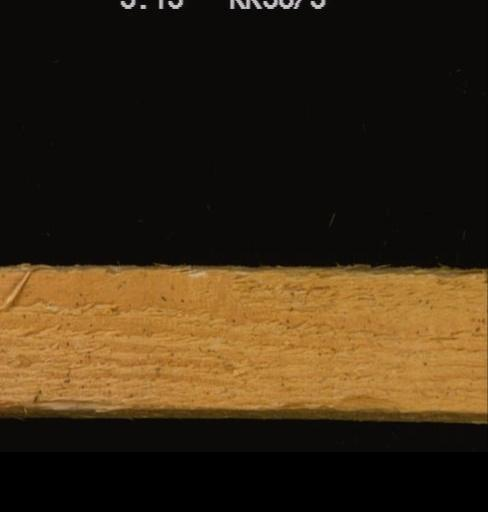wave: (242, 387, 420, 419), (3, 392, 119, 415)
